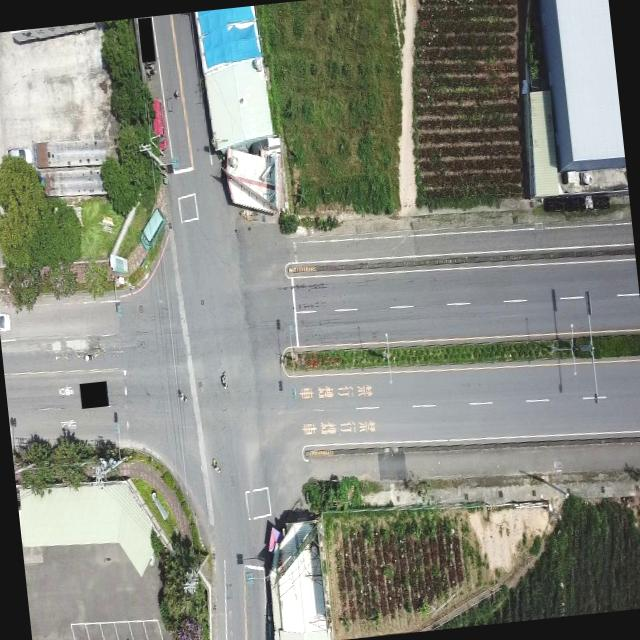bike: (174, 383, 190, 408), (218, 369, 232, 396), (81, 350, 95, 362), (172, 89, 182, 103), (210, 456, 218, 472), (143, 60, 154, 70), (145, 68, 157, 76)
bus: (145, 93, 171, 155), (136, 208, 166, 250)
car: (4, 144, 34, 170), (0, 308, 13, 334)
